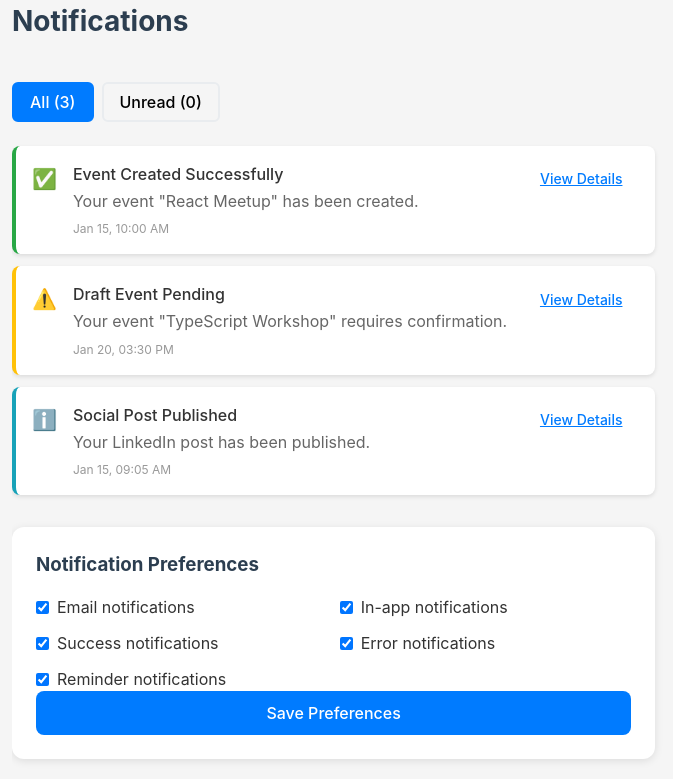
Scenario: NotificationCenter Component › shows empty unread state when all notifications are read
Step 1. Click the button "Unread (0)" → click(161, 102), box [102, 82, 220, 122]
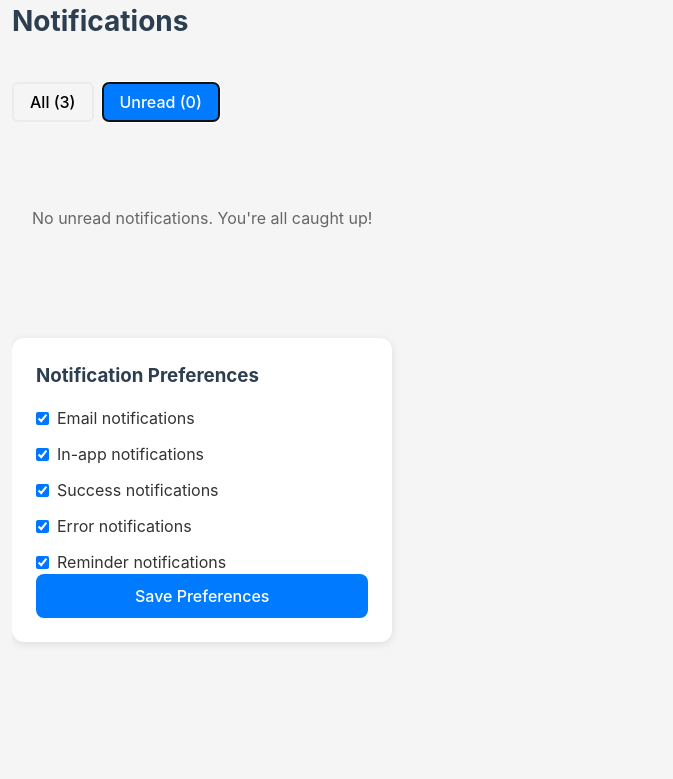
Expected: the text "No unread notifications. You're all caught up!" is shown, [32, 206, 372, 230]
